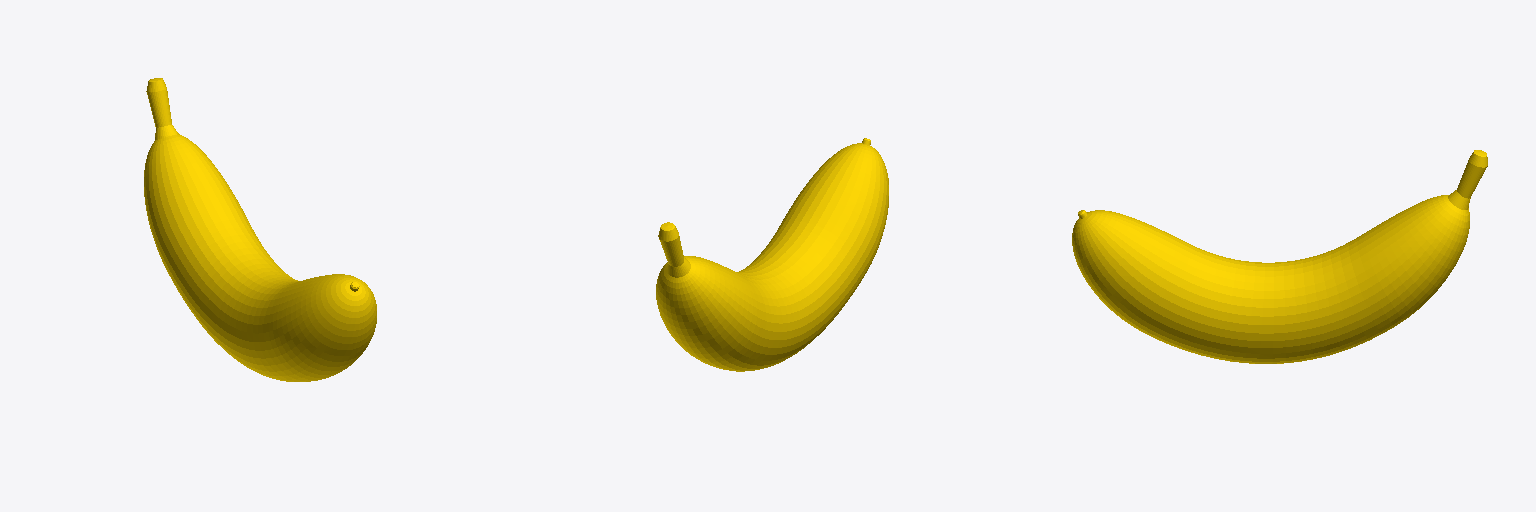
File: Banana.obj
The picture shows the model from 3 angles: view 1: azimuth 30°, elevation 25°; view 2: azimuth 150°, elevation 25°; view 3: azimuth 270°, elevation 25°; orthographic projection.
Visible parts, largest first — view 1: banana_rot_banana_banana_rot_banana1_banana_rot_polySurface2_ban; view 2: banana_rot_banana_banana_rot_banana1_banana_rot_polySurface2_ban; view 3: banana_rot_banana_banana_rot_banana1_banana_rot_polySurface2_ban.
Part boxes in pixels (left/top/right/bottom): banana_rot_banana_banana_rot_banana1_banana_rot_polySurface2_ban: left=144, top=78, right=376, bottom=381; banana_rot_banana_banana_rot_banana1_banana_rot_polySurface2_ban: left=656, top=138, right=888, bottom=371; banana_rot_banana_banana_rot_banana1_banana_rot_polySurface2_ban: left=1072, top=150, right=1487, bottom=363.
Bounding box in the file's own units: 2.42 × 5.69 × 10.29.